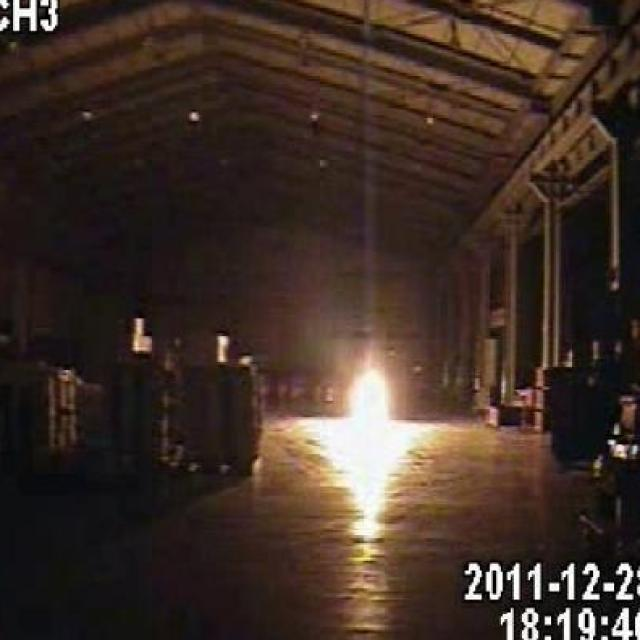smoke: (341, 371, 396, 468)
